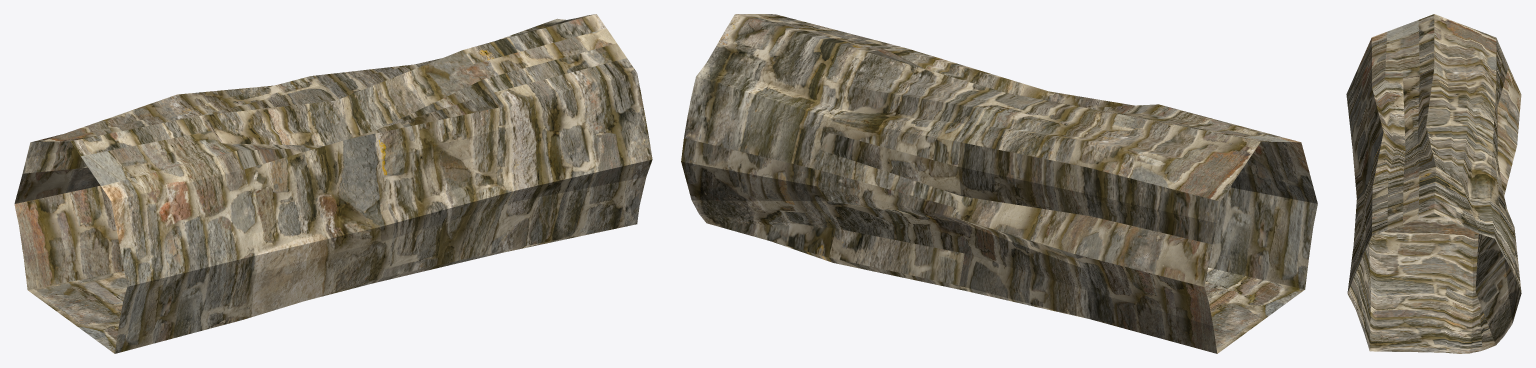
File: Tunnel_straight.fbx
3 renders of one model, left to right at view 1: azimuth 30°, elevation 25°; view 2: azimuth 150°, elevation 25°; view 3: azimuth 270°, elevation 25°, orthographic. The views are drawn at different scales.
Visible parts, largest first — view 1: Cylinder.003; view 2: Cylinder.003; view 3: Cylinder.003.
Part boxes in pixels (left/top/right/bottom): Cylinder.003: left=14, top=14, right=652, bottom=353; Cylinder.003: left=681, top=14, right=1317, bottom=353; Cylinder.003: left=1346, top=14, right=1521, bottom=353.
Size of the model in its own units: 2220 by 809 by 827.
